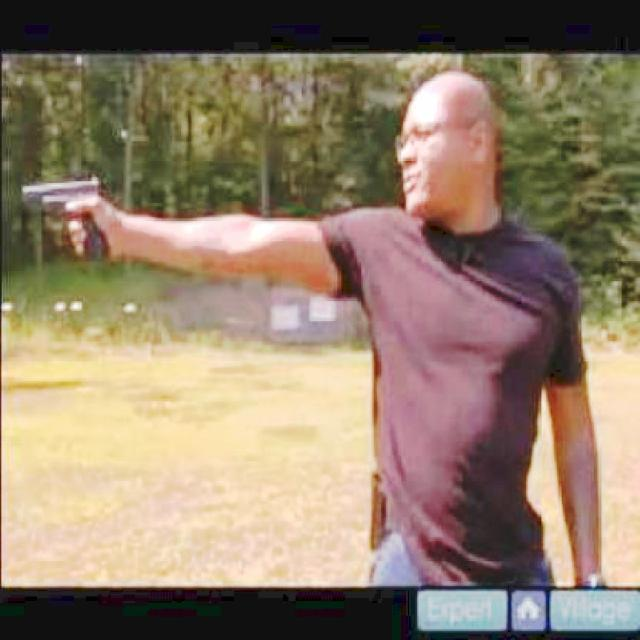Gun: (14, 165, 120, 267)
